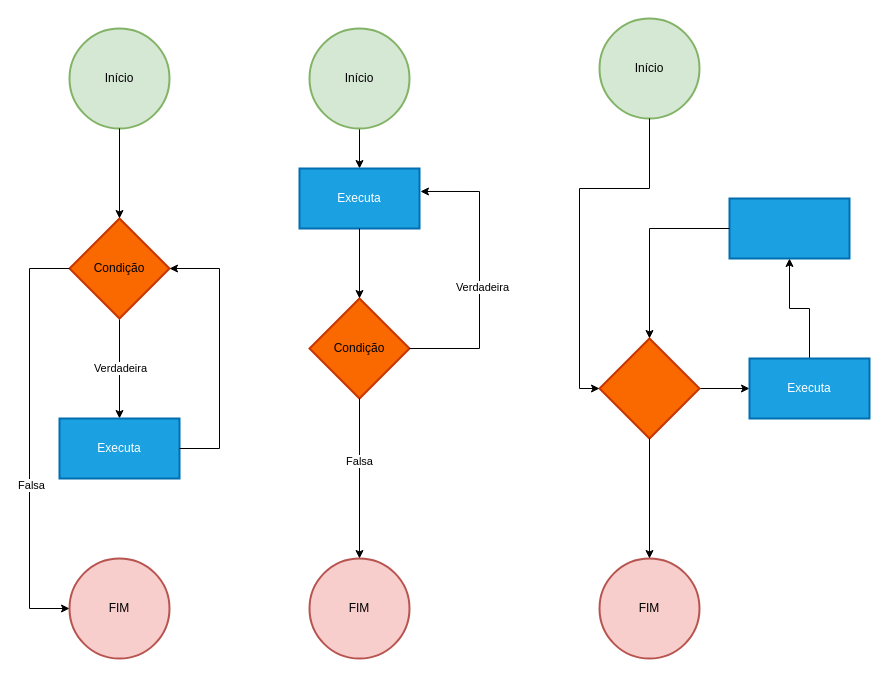
Image size: 887x676. Some labels were removed from this diagram. Here are the shapes that lost their labels. From the top down, the centre of each, then its label:
the point at 789,228: Incrementa
the point at 649,388: Ultimo?
